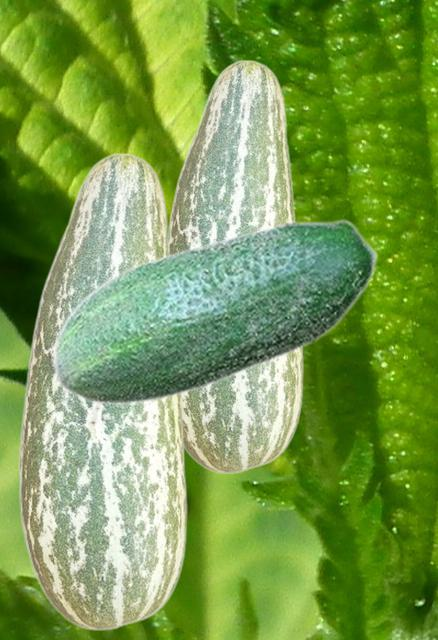cucumber: (18, 152, 187, 630), (52, 218, 378, 404), (168, 59, 303, 473)
